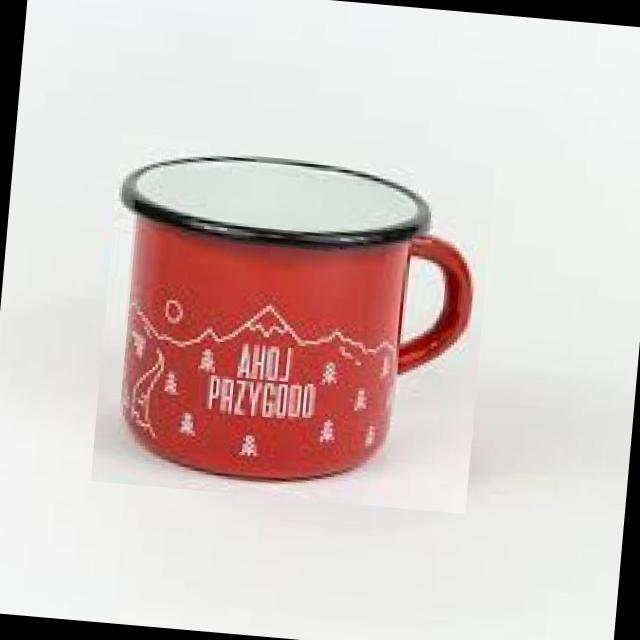Coffee Mug: (94, 142, 483, 494)
